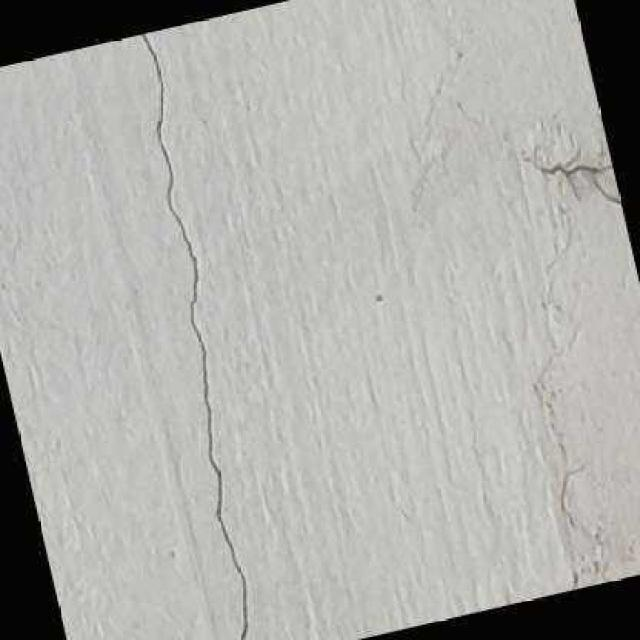D00: (139, 32, 249, 640)
